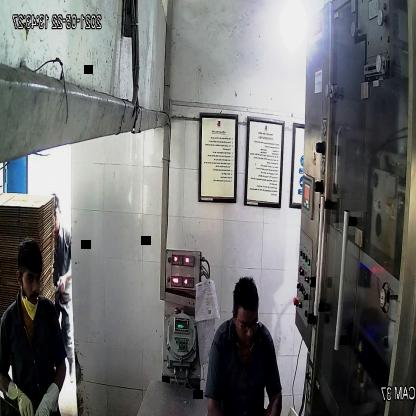goggles: (233, 310, 262, 335)
no_goggles: (21, 270, 43, 288)
